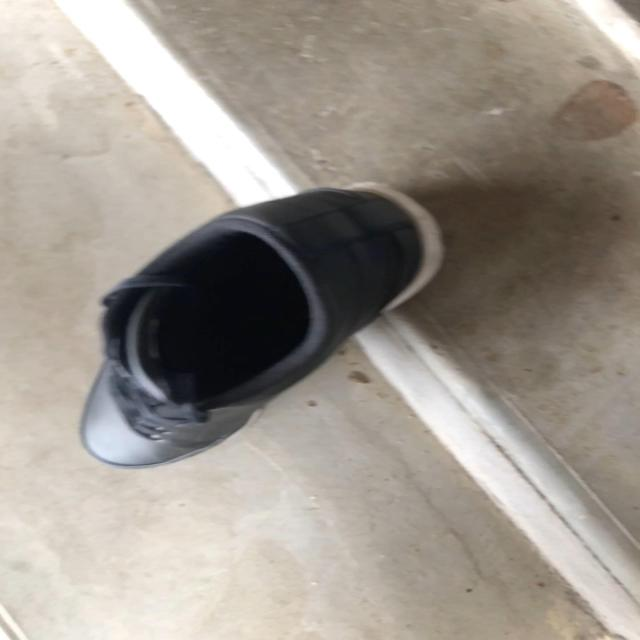shoe: (78, 184, 446, 471)
